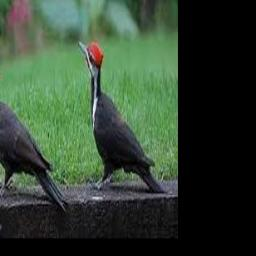Woodpecker: (77, 40, 165, 192), (0, 61, 68, 211)
